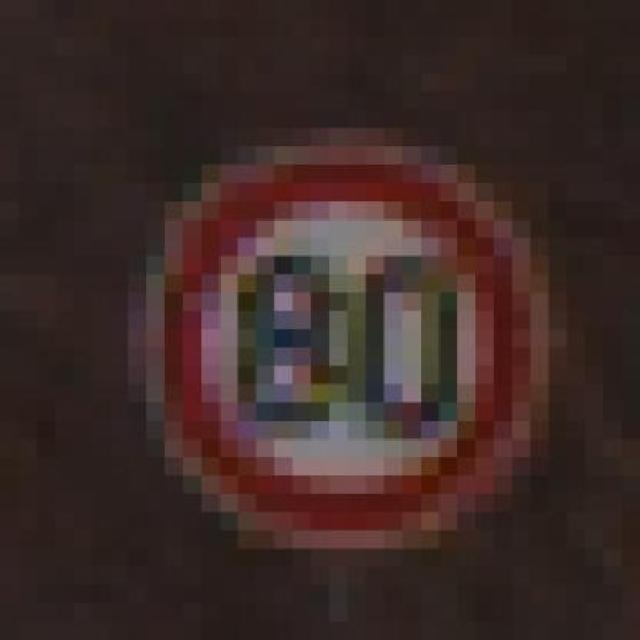forb_speed_over_80: (158, 136, 538, 549)
